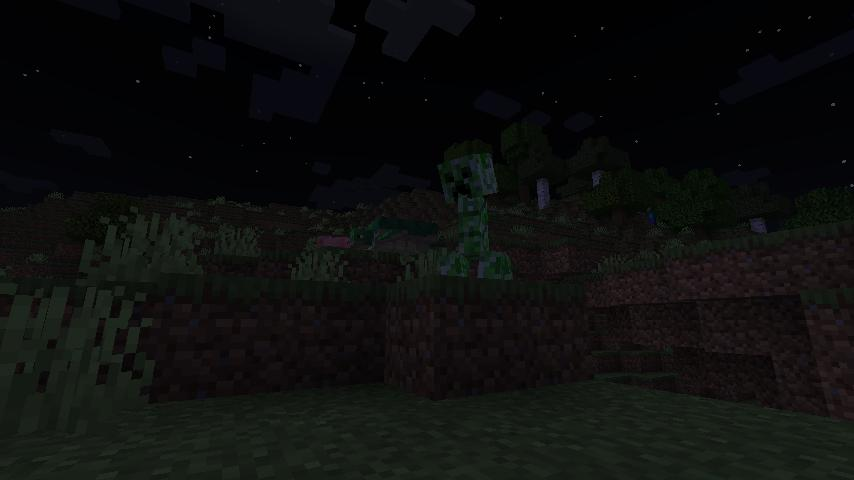creeper: (434, 148, 518, 283)
pig: (313, 232, 353, 251)
turtle: (351, 209, 442, 262)
zombie: (644, 205, 658, 226)
